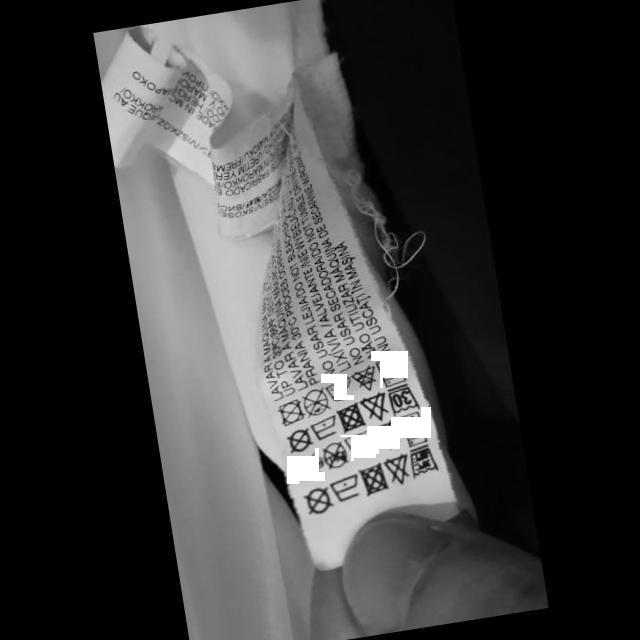30C: (401, 438, 442, 482), (384, 378, 421, 416)
DN_bleach: (355, 388, 391, 425), (379, 449, 413, 488), (298, 383, 333, 418), (348, 362, 380, 394)
DN_dry_clean: (299, 482, 335, 518), (320, 438, 350, 472), (282, 425, 314, 455)
DN_tumble_dry: (354, 458, 391, 498), (331, 400, 366, 434), (274, 397, 306, 428)
iron_low: (326, 471, 362, 506), (306, 412, 339, 443)
